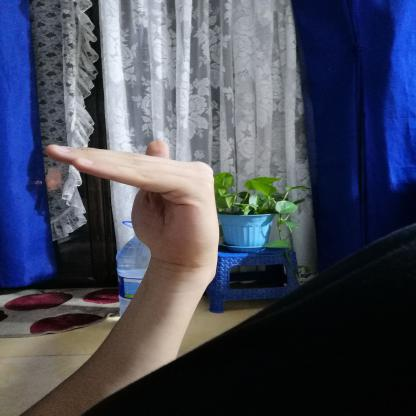KHAA: (29, 120, 235, 281)
